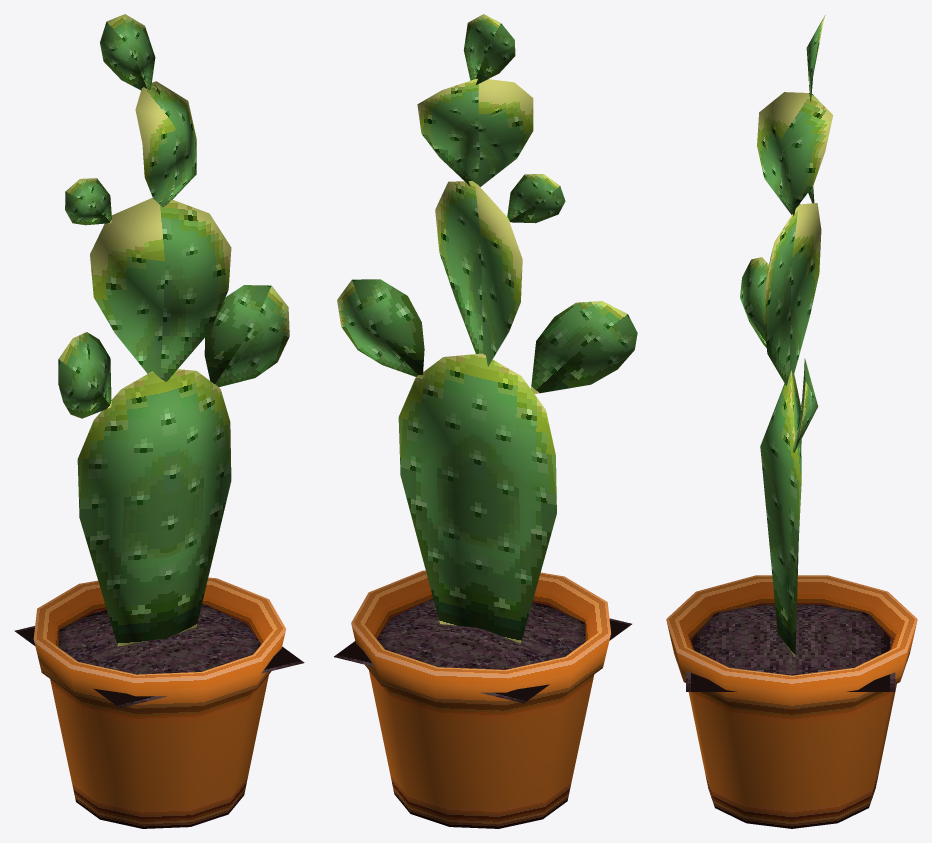
The model's file is int_cct_smooth.dae.
3 views of the same model, side by side, from view 1: azimuth 30°, elevation 25°; view 2: azimuth 150°, elevation 25°; view 3: azimuth 270°, elevation 25° (orthographic). The views are drawn at different scales.
Visible parts, largest first — view 1: int_cct_smooth; view 2: int_cct_smooth; view 3: int_cct_smooth.
Part boxes in pixels (<box>): int_cct_smooth: <box>14,14,304,828</box>; int_cct_smooth: <box>334,14,637,828</box>; int_cct_smooth: <box>666,15,917,828</box>.
Size of the model in its own units: 23.52 by 66.46 by 19.79.
Materials: 3 (3 with a texture image).
